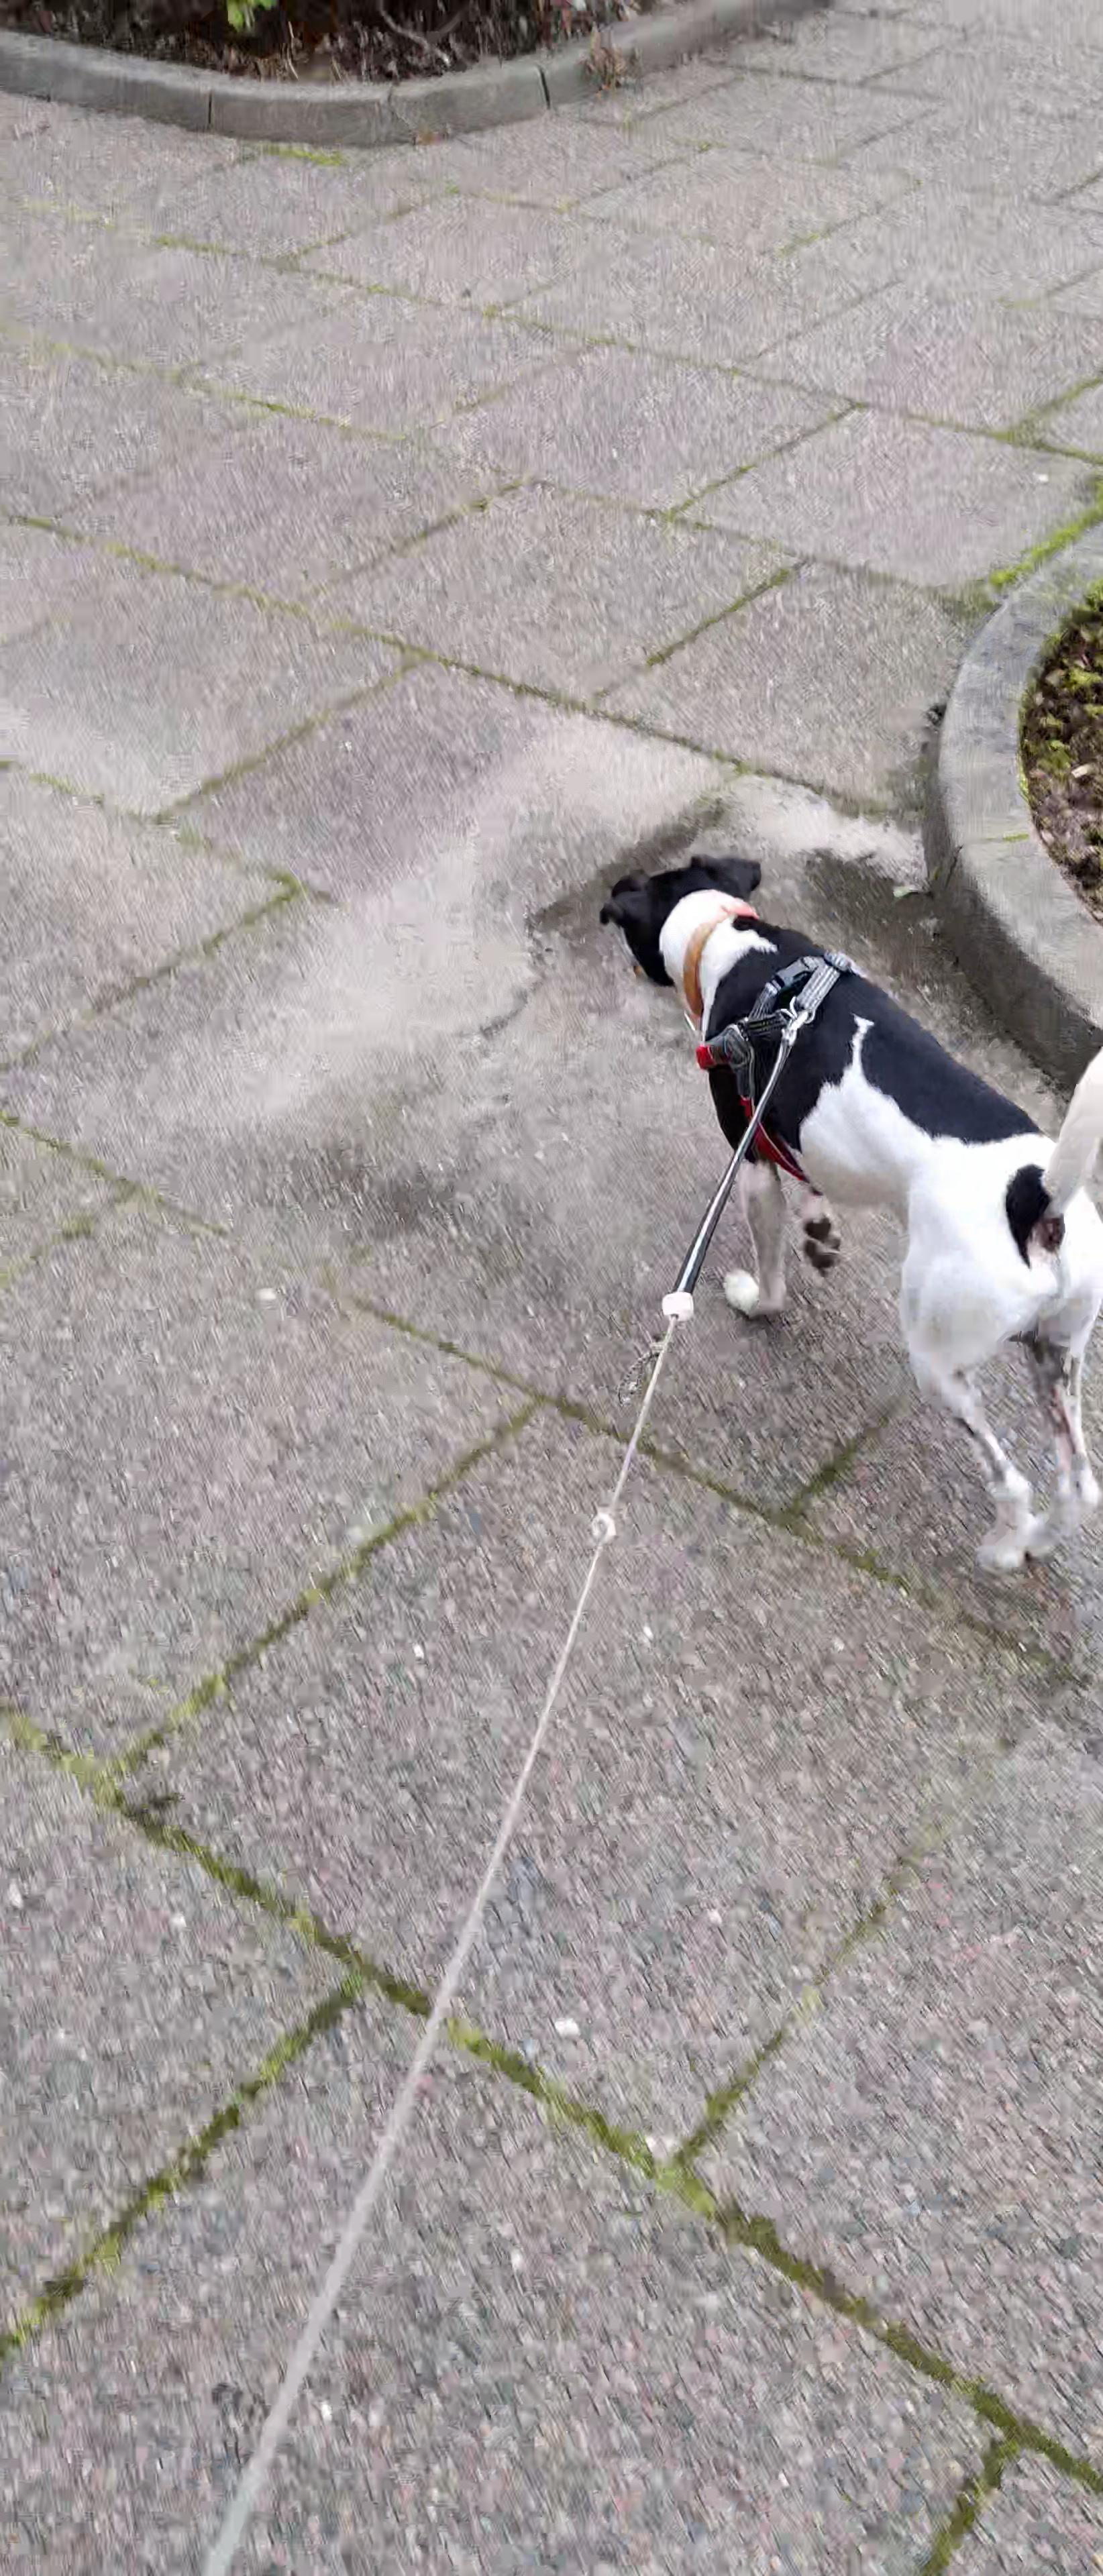Dog: (597, 853, 1103, 1577)
